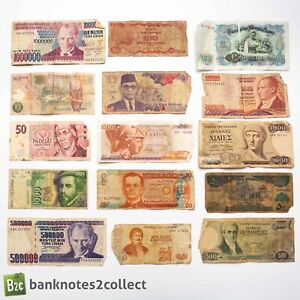cash: (7, 217, 106, 267), (195, 20, 291, 71), (198, 120, 294, 169), (200, 217, 294, 264), (12, 20, 105, 66), (98, 119, 193, 163), (96, 168, 195, 210), (200, 72, 289, 118), (101, 71, 192, 115), (9, 72, 95, 116), (205, 173, 293, 214), (8, 120, 91, 161), (111, 224, 192, 265), (8, 169, 88, 209), (108, 19, 188, 56)
